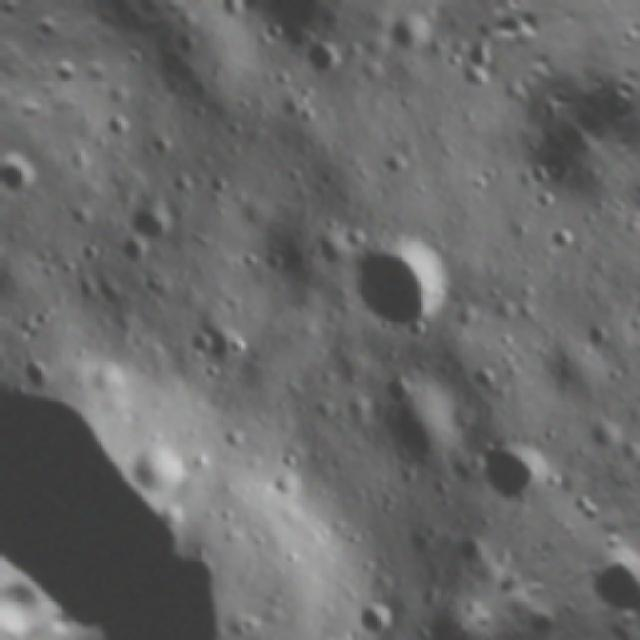crater: (0, 306, 320, 640), (317, 190, 477, 350), (347, 355, 485, 494), (456, 422, 553, 521), (99, 179, 178, 258), (239, 0, 398, 26), (0, 154, 52, 217), (343, 586, 403, 640), (470, 557, 524, 611), (290, 614, 372, 640), (623, 375, 640, 442)
